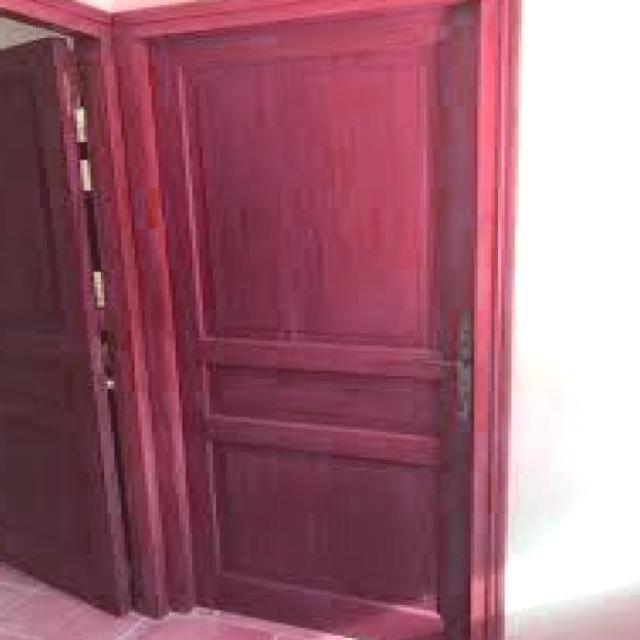door: (140, 1, 484, 638)
